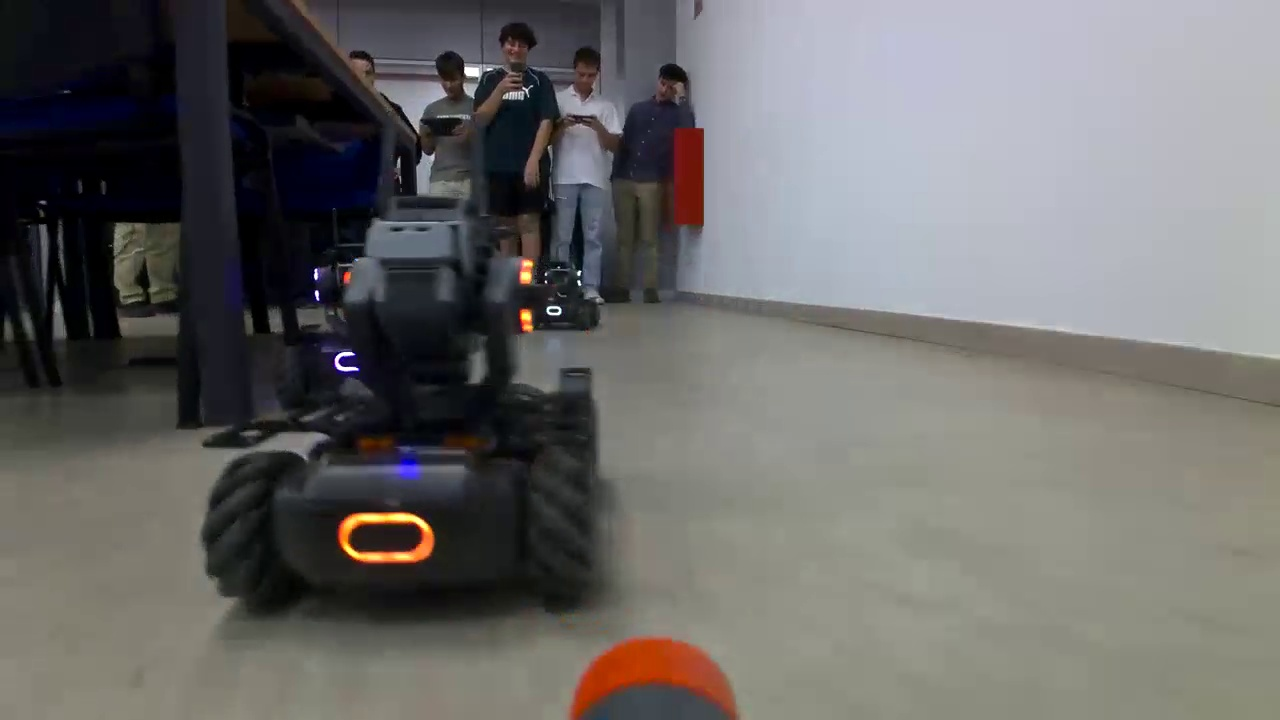robot: (218, 234, 610, 614), (523, 252, 610, 335)
